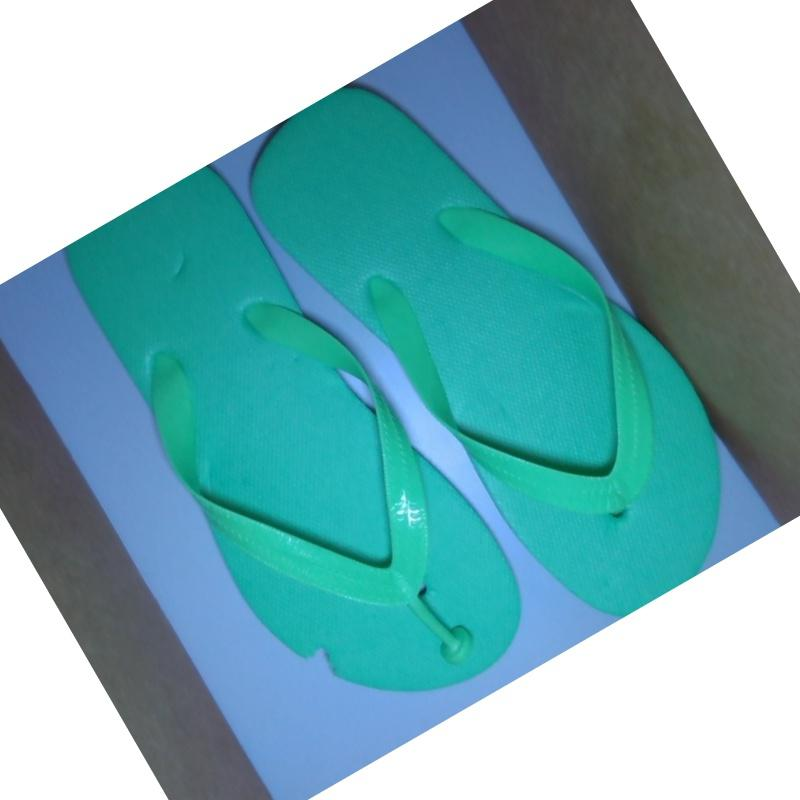chipped: (288, 626, 359, 692)
detached: (429, 617, 486, 679)
